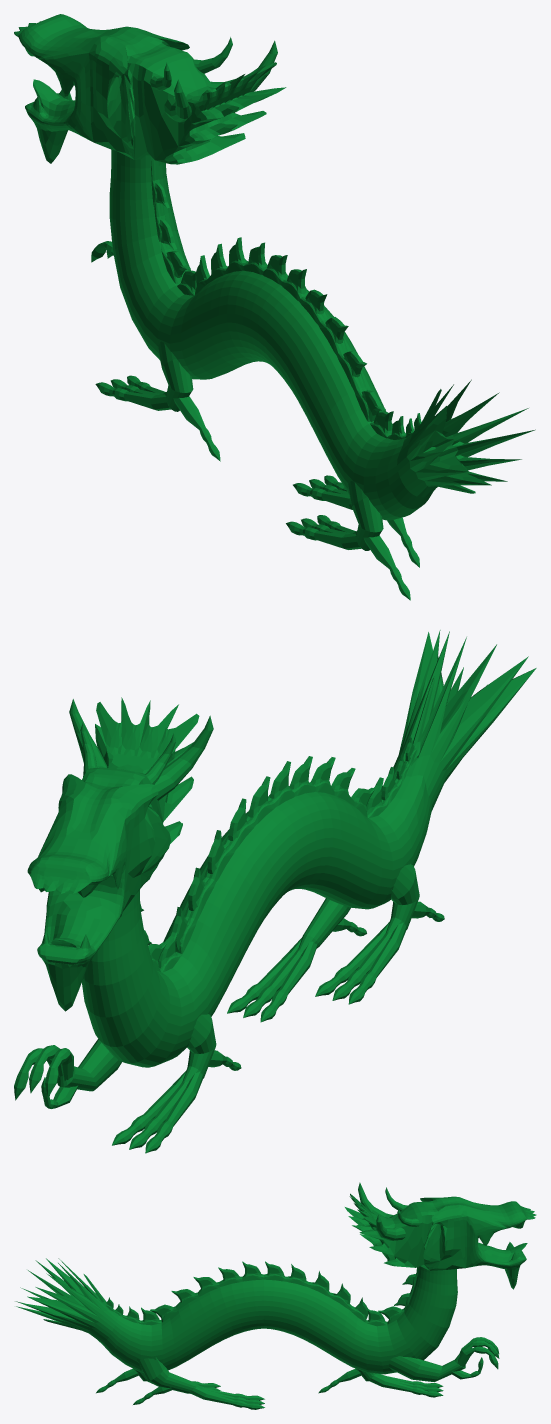
The model's file is jadedragon.obj.
3 views of the same model, one above another, from view 1: azimuth 30°, elevation 25°; view 2: azimuth 150°, elevation 25°; view 3: azimuth 270°, elevation 25° (orthographic). The views are drawn at different scales.
Parts seen in each view (by area): view 1: Cube.029; view 2: Cube.029; view 3: Cube.029.
Boxes of the visible parts, bbox=[...] form: Cube.029: bbox=[14, 14, 535, 600]; Cube.029: bbox=[14, 630, 536, 1153]; Cube.029: bbox=[15, 1182, 536, 1409].
Size of the model in its own units: 3.41 by 8.25 by 18.6.
